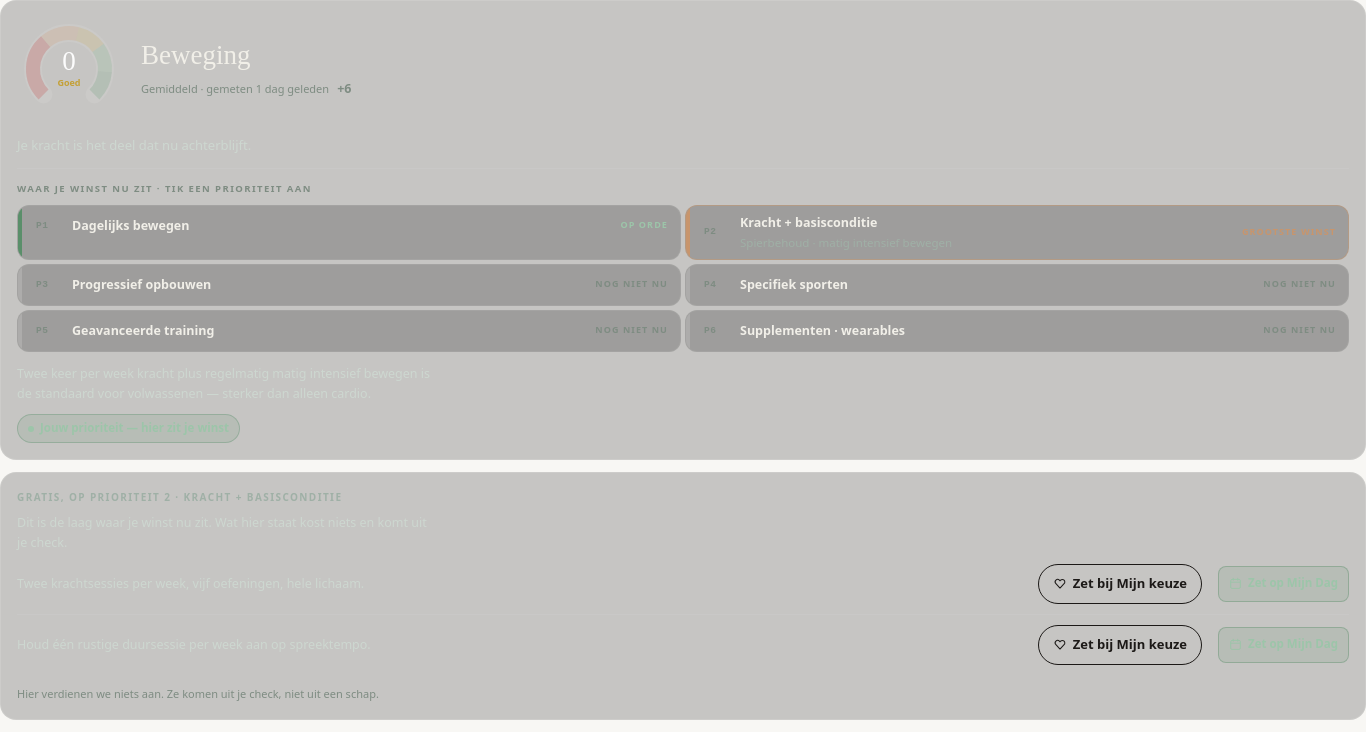
it: Contextkolom — zone 2: wat jij hier koos › laat wat je in het midden bewaart meteen hier verschijnen
Click the 1st button "Zet bij Mijn keuze". click: (1120, 584)
box: [1038,564,1202,604]
(page scrolled)
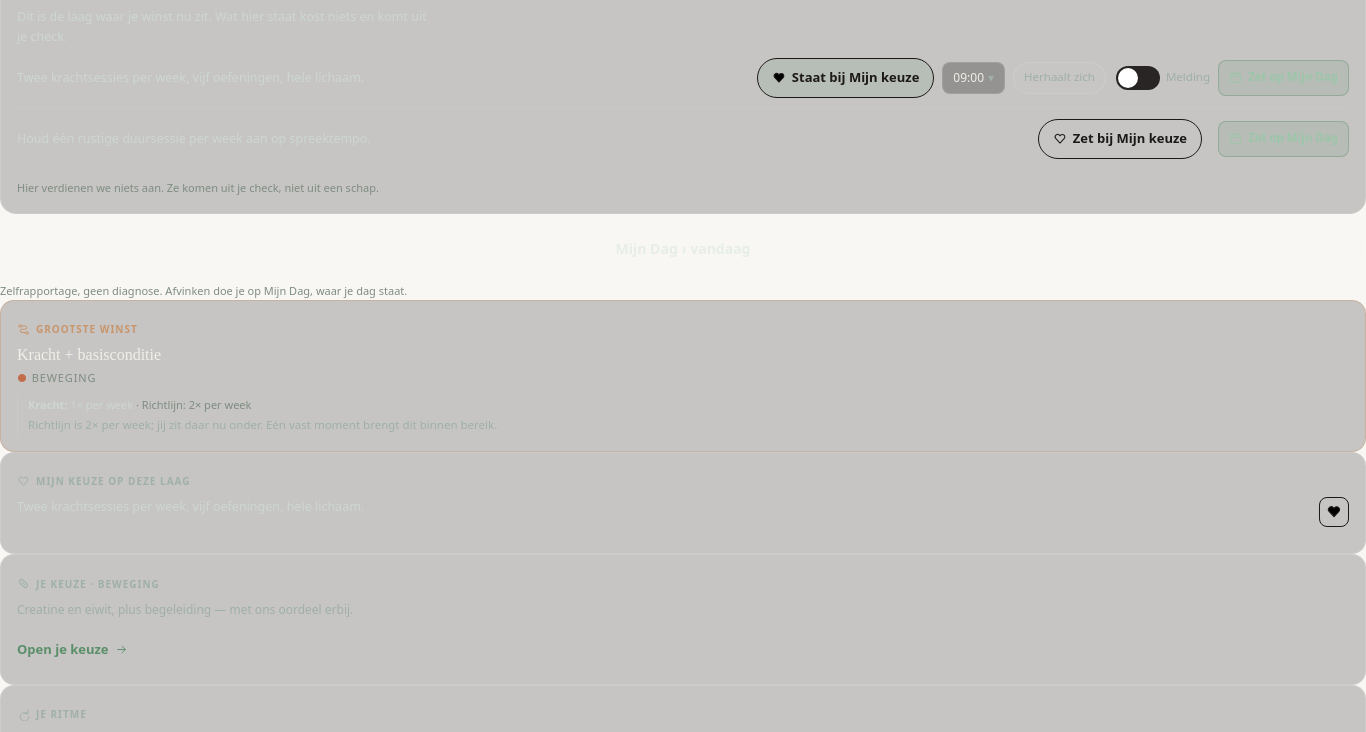
Result: the button named "klik om weg te halen" is shown at [1319,497,1349,527]
